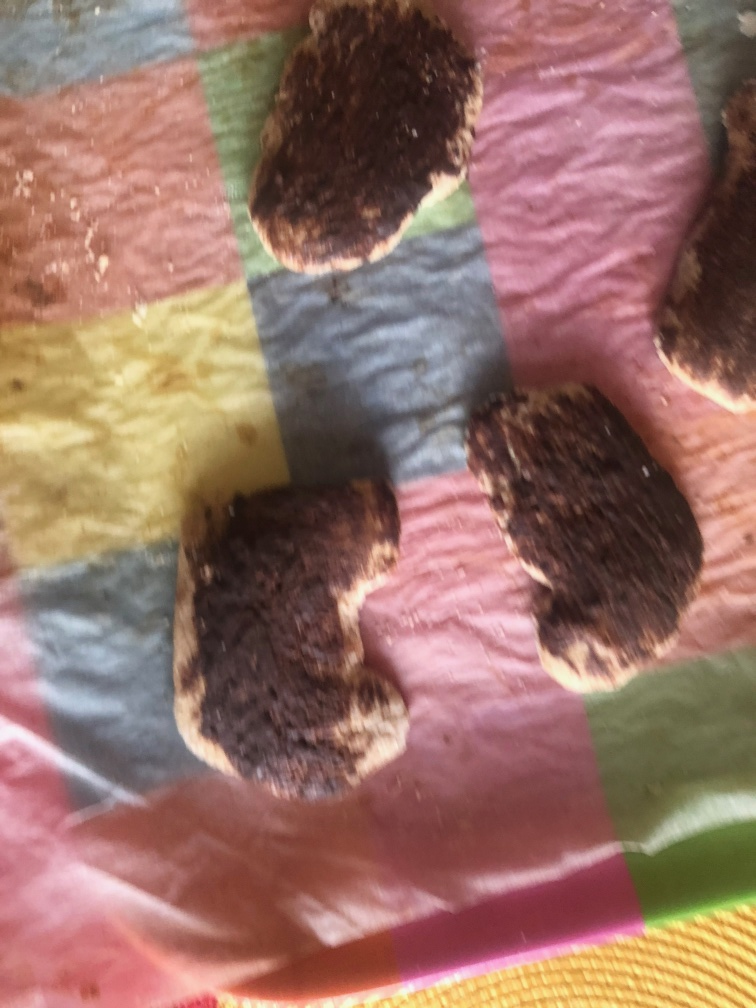weird #1: (167, 472, 416, 800), (465, 377, 700, 696), (240, 1, 490, 279), (657, 90, 756, 409)
